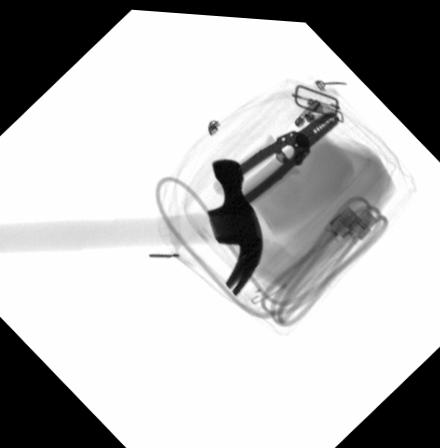Hammer: (0, 154, 263, 292)
Pliers: (212, 105, 338, 213)
